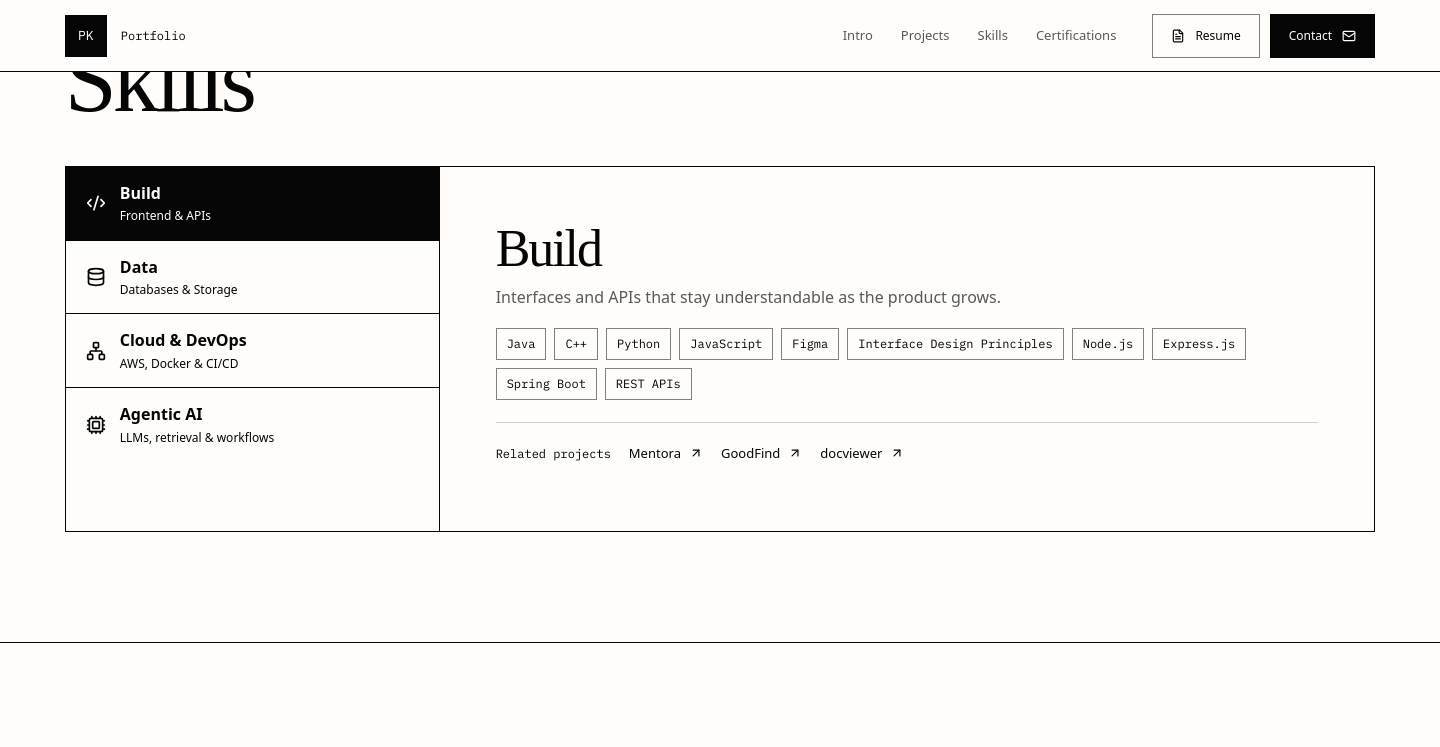
Scenario: portfolio experience › reveals a filtered-out project when its skill proof link is used
(page scrolled)
Click the link "docviewer" at [862, 453], box 820,444 -> 904,462
(page scrolled)
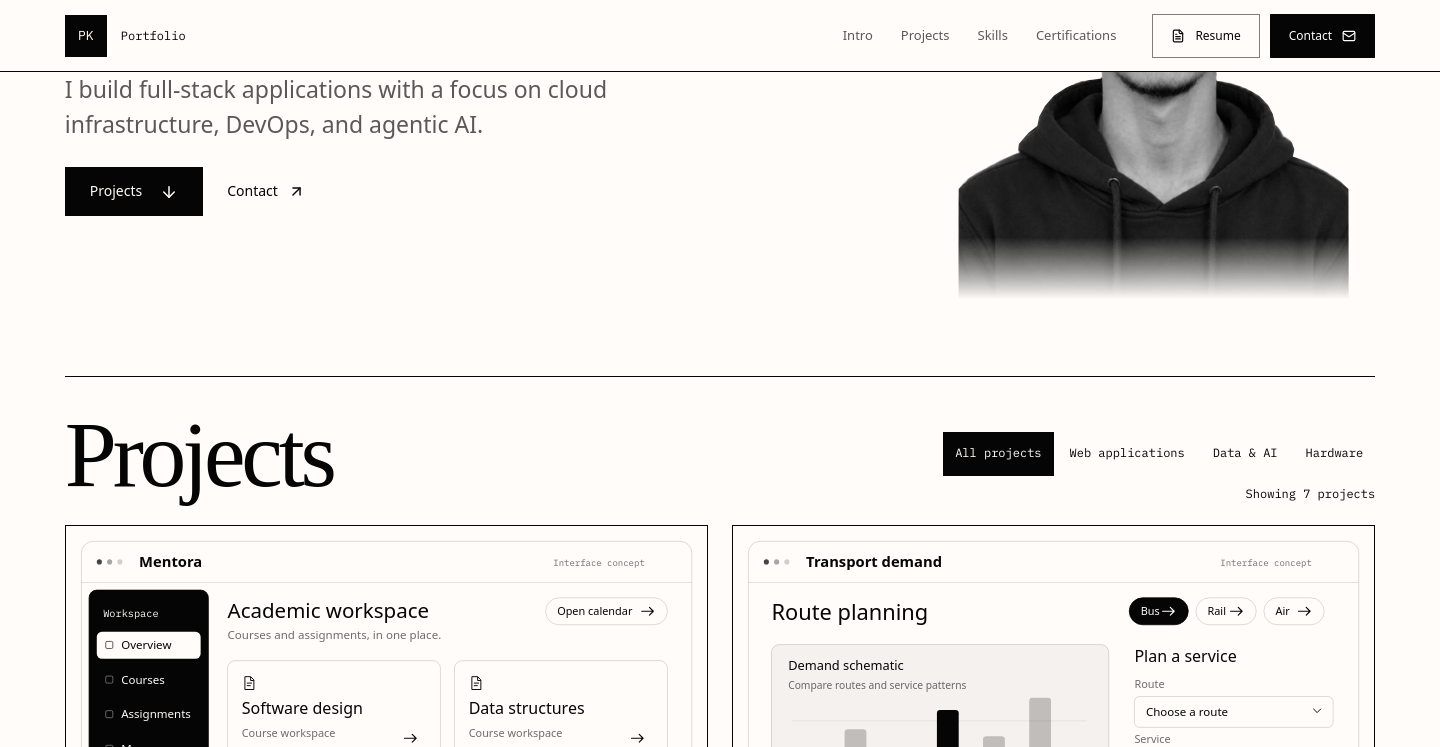
Click the button "Data & AI" at [1245, 454], box 1201,432 -> 1290,476
(page scrolled)
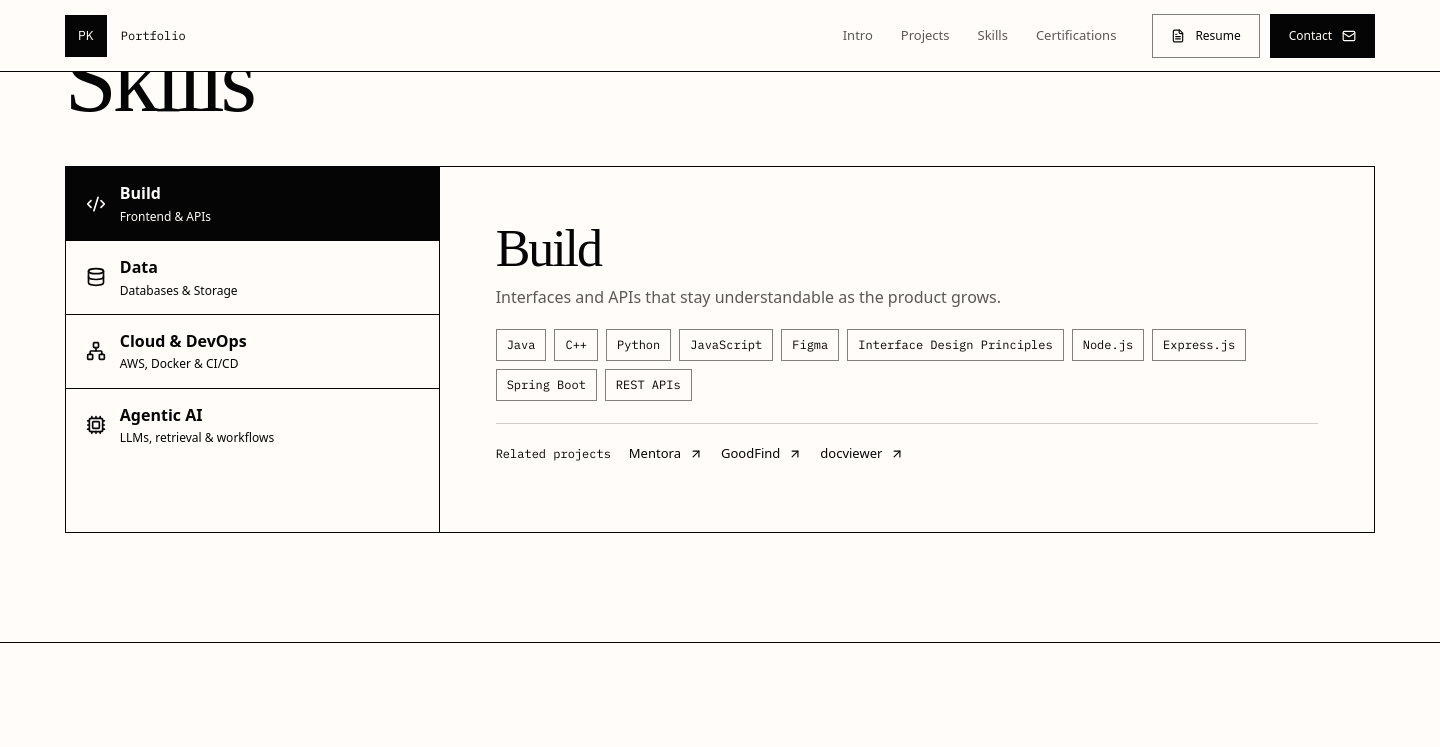
Click the link "docviewer" at [862, 453], box 820,444 -> 904,462
(page scrolled)
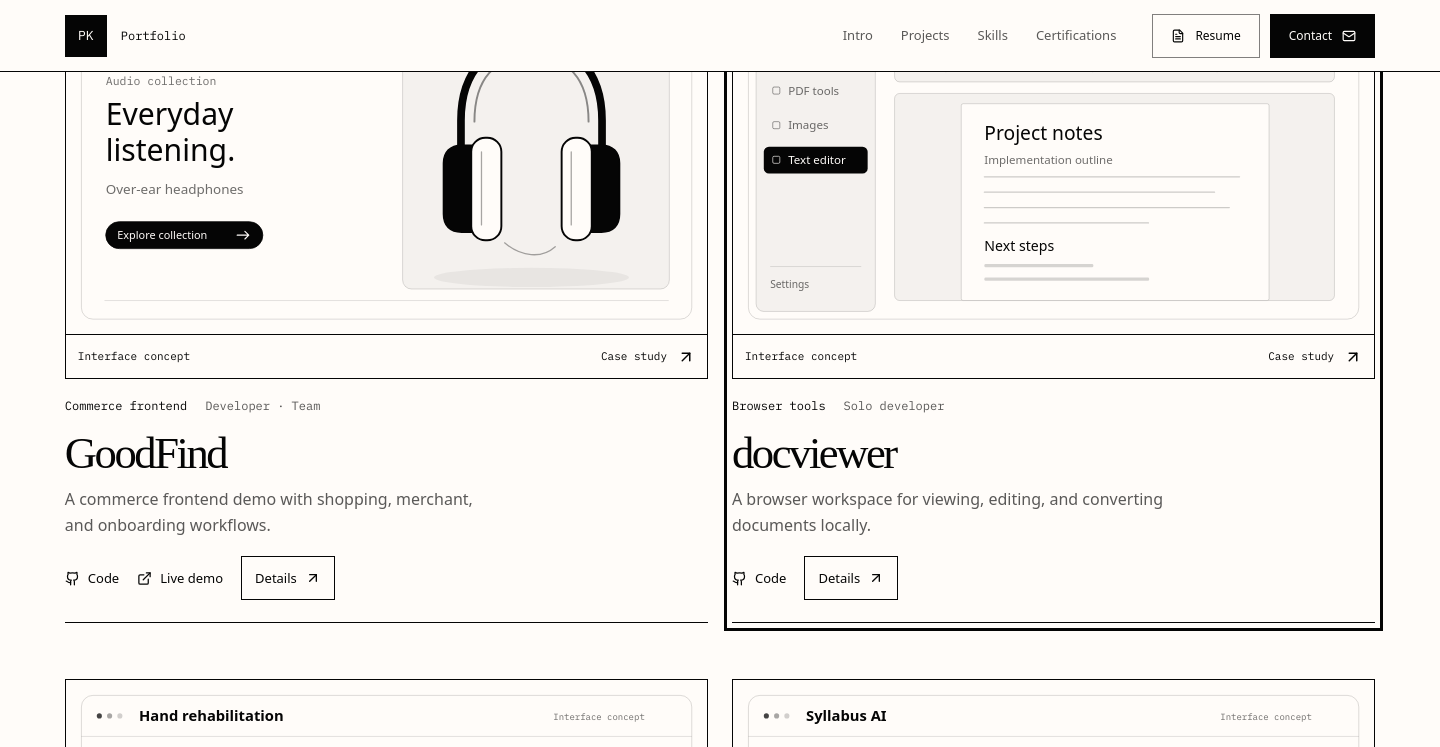
Expected: the heading "docviewer" is shown, 732,428 -> 896,478
